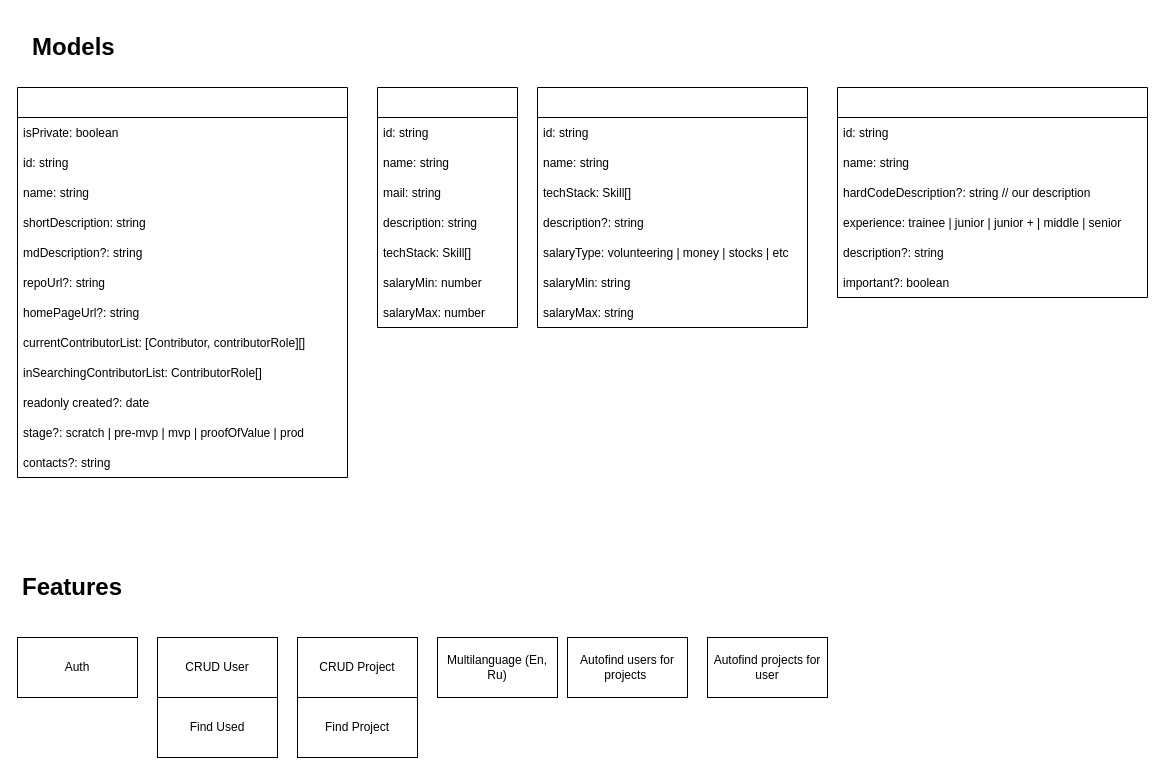
The diagram is 1165 pixels wide and 775 high, and some of its shapes have lost their labels. The shapes that lost their labels are listed below. From the top down, each one's box as (x1, y1, x2, y2) in pixels, then its label:
(376, 86, 518, 328): User
(536, 86, 808, 328): ContributorRole
(836, 86, 1148, 298): Skill
(16, 86, 348, 478): Project
